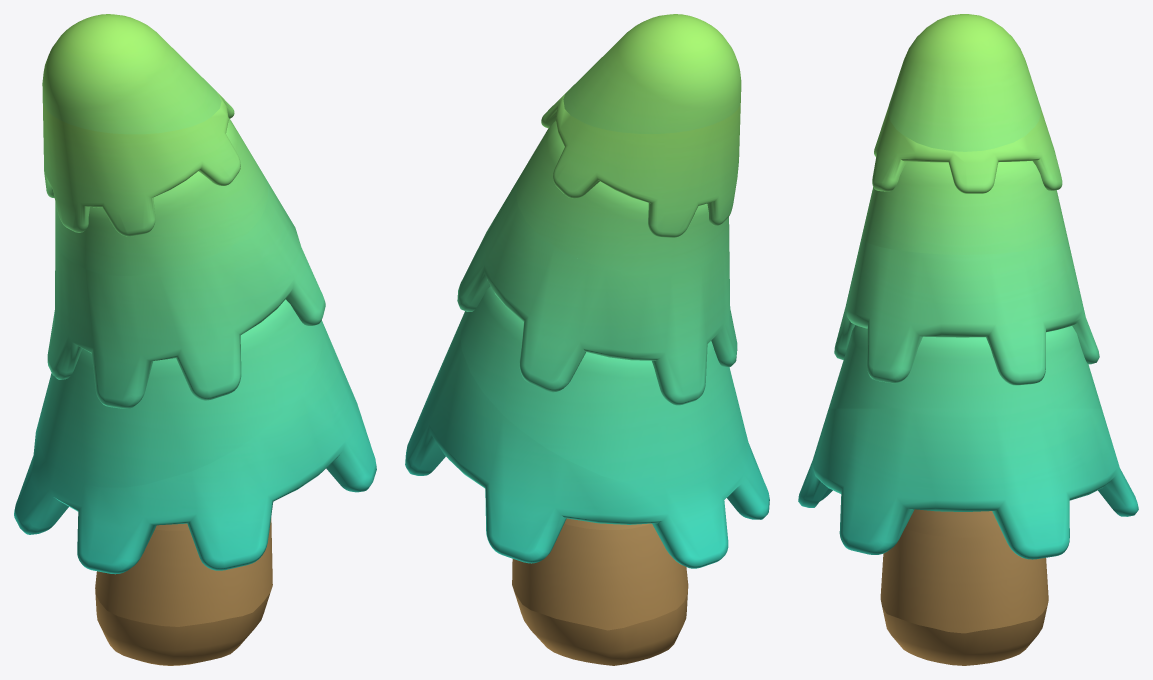
File: New_Tree2.fbx
3 views of the same model, side by side, from view 1: azimuth 30°, elevation 25°; view 2: azimuth 150°, elevation 25°; view 3: azimuth 270°, elevation 25° (orthographic). The views are drawn at different scales.
Visible parts, largest first — view 1: Cylinder.066, Cylinder.067, Cylinder.065, Cylinder.064, Cylinder.068, Cylinder.063; view 2: Cylinder.066, Cylinder.067, Cylinder.065, Cylinder.064, Cylinder.068, Cylinder.063; view 3: Cylinder.066, Cylinder.067, Cylinder.065, Cylinder.064, Cylinder.068, Cylinder.063.
Boxes of the visible parts, <box> form: Cylinder.066: <box>39,176,325,487</box>; Cylinder.067: <box>14,322,376,574</box>; Cylinder.065: <box>42,92,267,275</box>; Cylinder.064: <box>42,14,221,134</box>; Cylinder.068: <box>95,518,272,626</box>; Cylinder.063: <box>95,590,271,665</box>; Cylinder.066: <box>457,177,743,486</box>; Cylinder.067: <box>405,312,769,568</box>; Cylinder.065: <box>516,88,740,275</box>; Cylinder.064: <box>563,14,741,133</box>; Cylinder.068: <box>512,523,688,630</box>; Cylinder.063: <box>513,588,688,665</box>; Cylinder.066: <box>828,236,1101,408</box>; Cylinder.067: <box>798,408,1138,559</box>; Cylinder.065: <box>862,106,1067,254</box>; Cylinder.064: <box>888,14,1040,151</box>; Cylinder.068: <box>880,528,1048,633</box>; Cylinder.063: <box>882,602,1048,665</box>.
Size of the model in its own units: 0.8172 by 1.66 by 0.8592.
